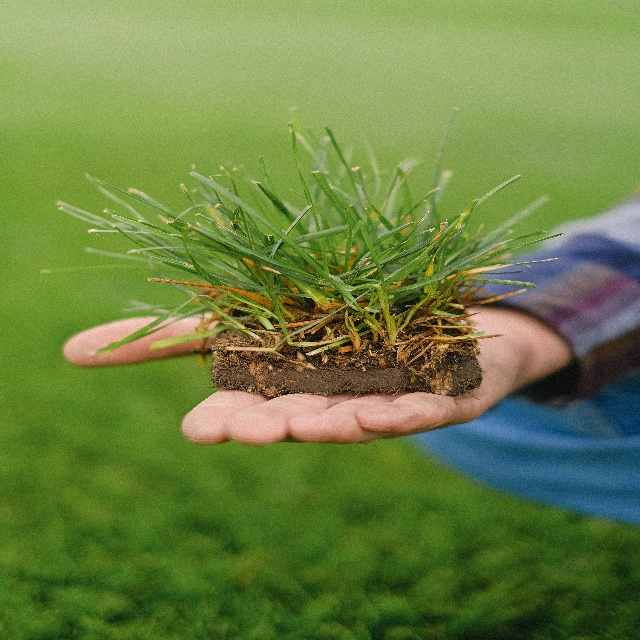Sin_guantes: (53, 304, 535, 450)
